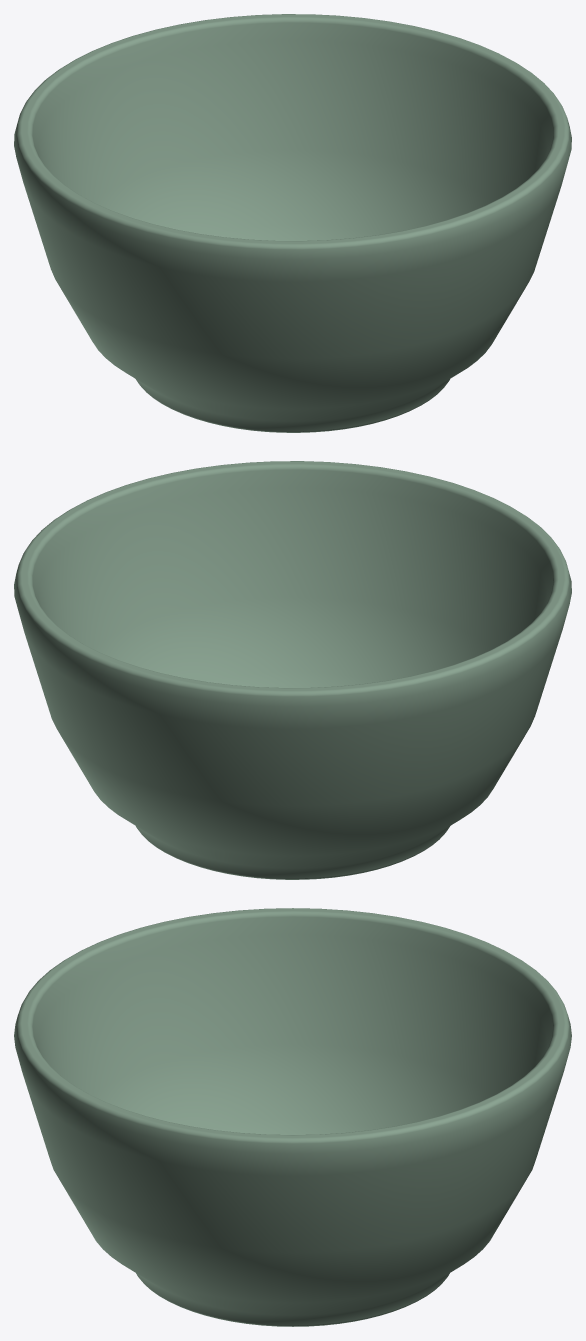
The model's file is kitchen-cereal-bowl.glb.
3 views of the same model, one above another, from view 1: azimuth 30°, elevation 25°; view 2: azimuth 150°, elevation 25°; view 3: azimuth 270°, elevation 25° (orthographic).
Visible parts, largest first — view 1: catalog_surface_RealismUV; view 2: catalog_surface_RealismUV; view 3: catalog_surface_RealismUV.
Part boxes in pixels (box(x1,y1,x2,y2)): catalog_surface_RealismUV: box(14, 14, 571, 432); catalog_surface_RealismUV: box(14, 461, 571, 879); catalog_surface_RealismUV: box(14, 908, 571, 1326).
Size of the model in its own units: 0.16 by 0.075 by 0.16.
